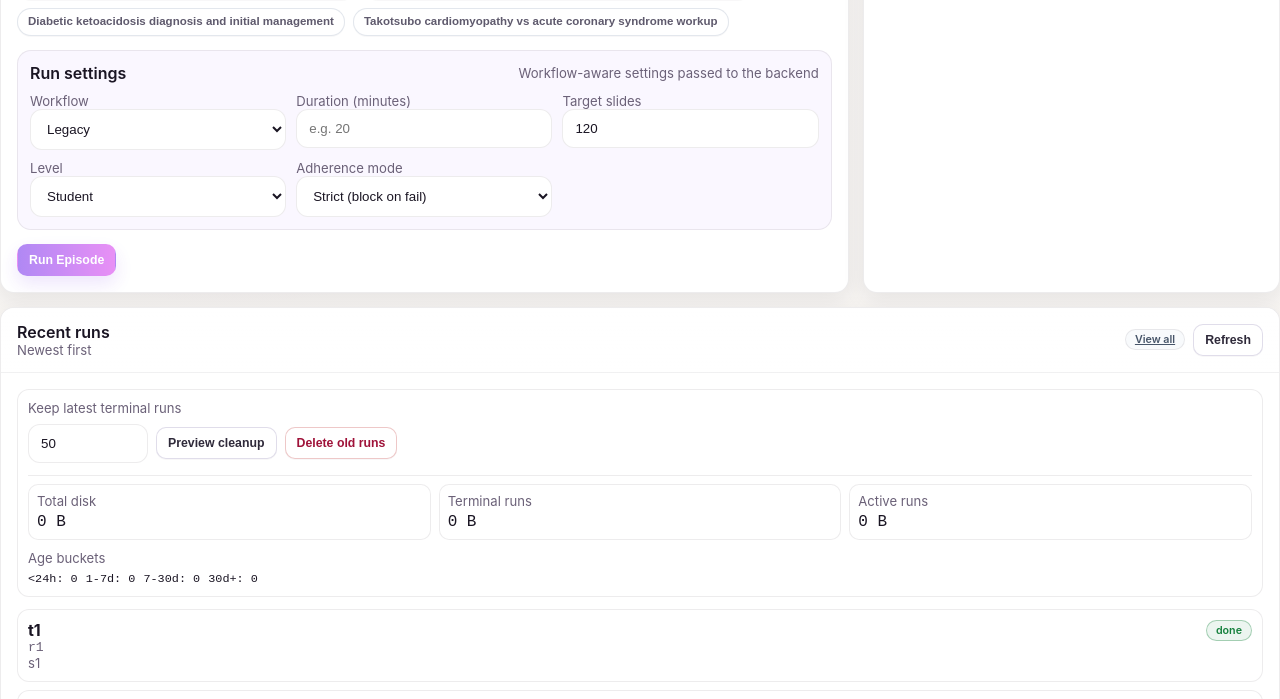
Test case: ChatStart › renders recent runs and refreshes the list
The image size is (1280, 699).
(page scrolled)
Check: the text "t1" is shown, box [28,620,41,640]
Click the button "Refresh". click: coordinates (1228, 340)
box: [1193,324,1263,356]
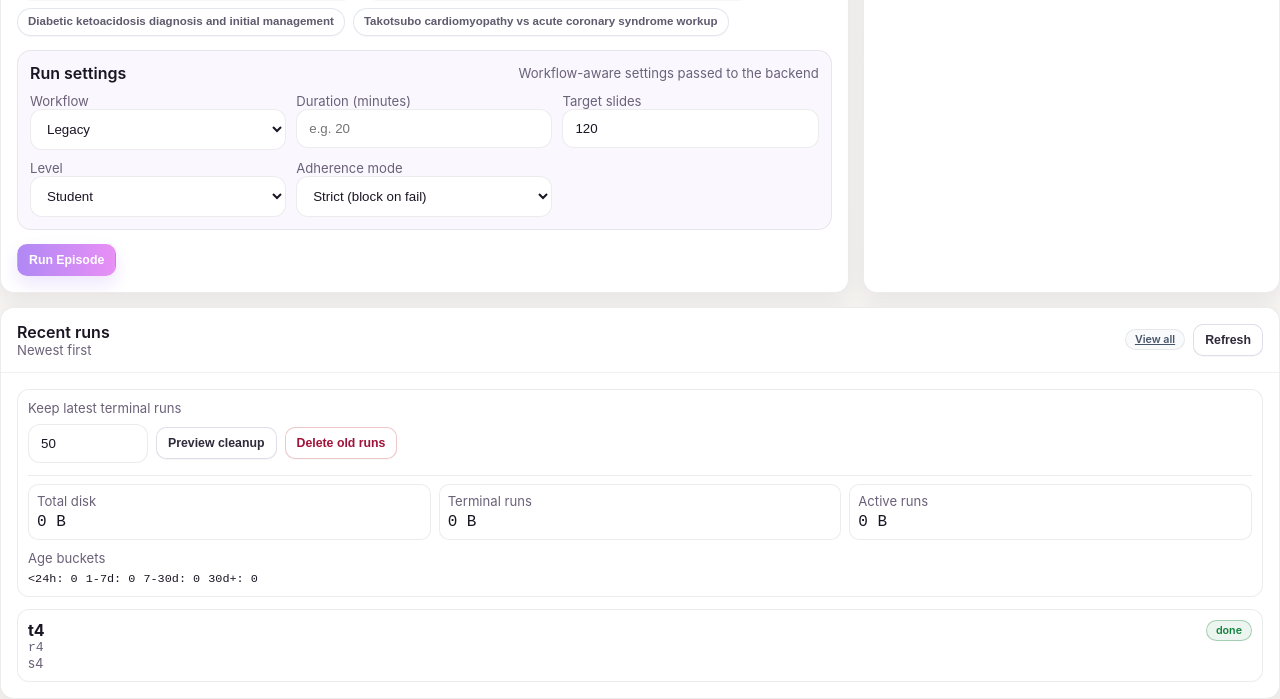
Check: the text "t4" is shown, box [28,620,45,640]
